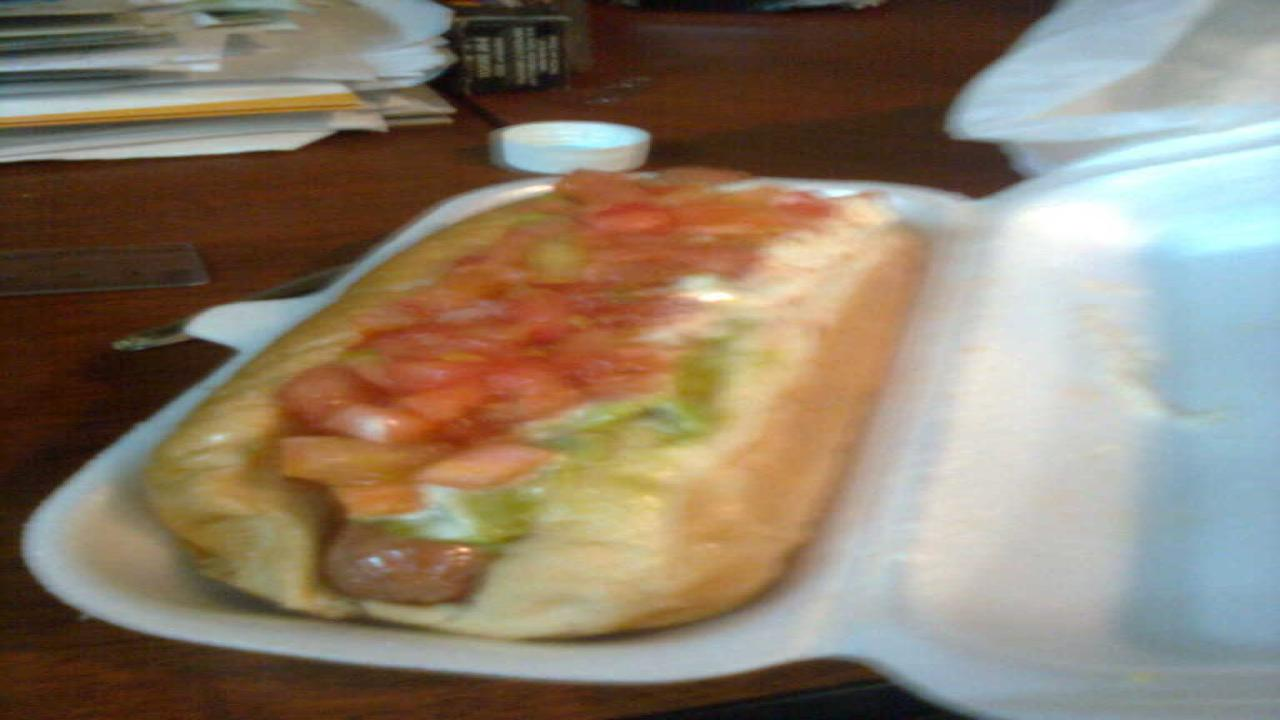bottle_cap: (495, 119, 662, 178)
